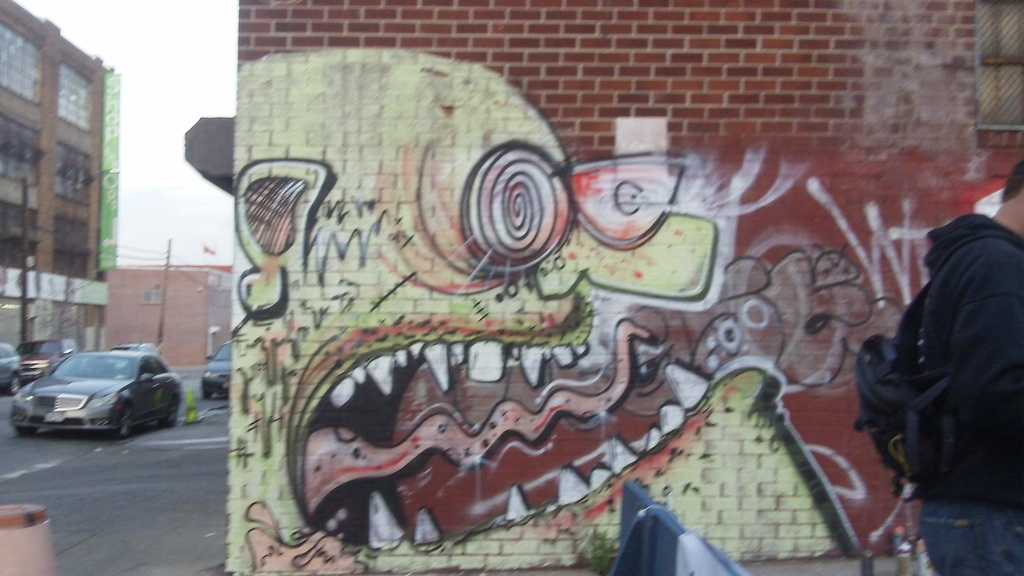Car: (11, 335, 170, 442), (11, 331, 87, 385), (200, 340, 233, 400), (0, 335, 22, 396)
